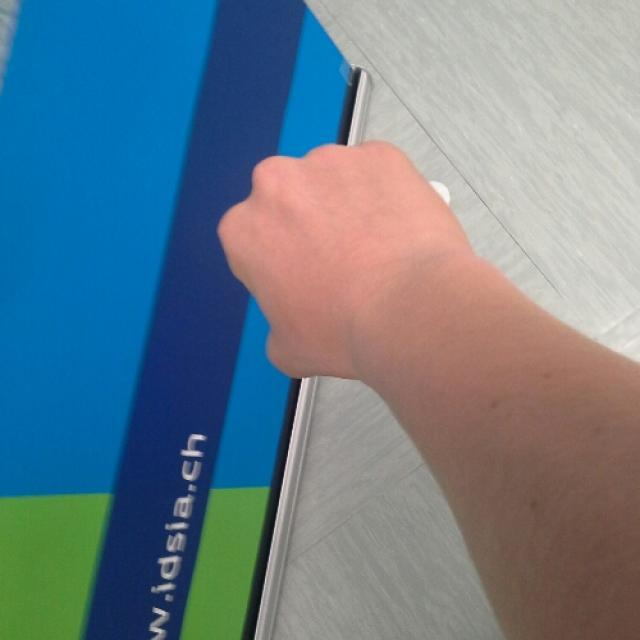rock: (211, 142, 432, 380)
